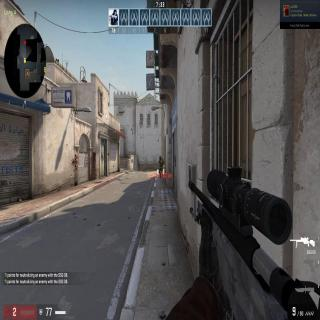CT-Body: (158, 154, 164, 179)
CT-Head: (159, 156, 161, 160)
